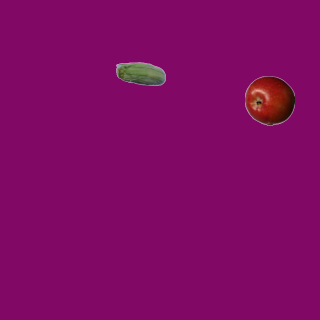Apple Braeburn: (244, 75, 294, 125)
Corn Husk: (115, 50, 165, 100)
